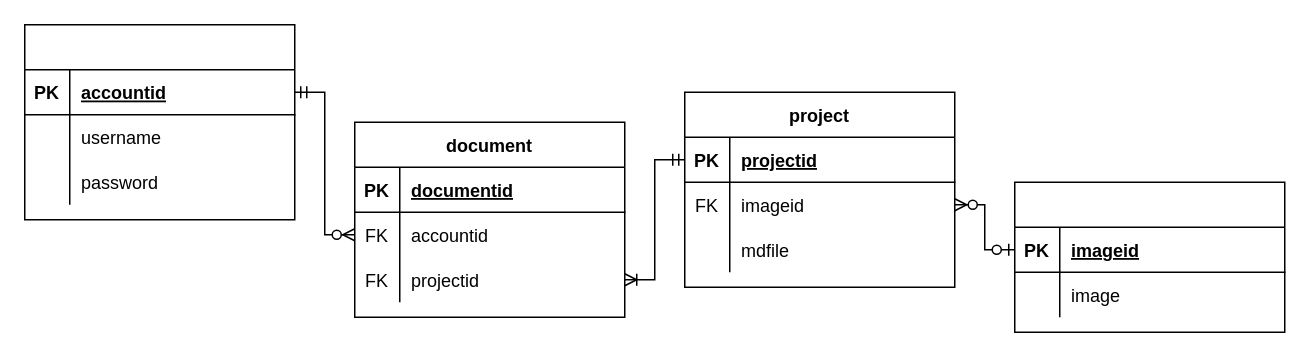
The diagram is 1310 pixels wide and 357 high, and some of its shapes have lost their labels. The box of each missing label's shape, as (x1, y1, x2, y2) in pixels:
accounts: (23, 23, 295, 220)
images: (1013, 181, 1285, 332)
